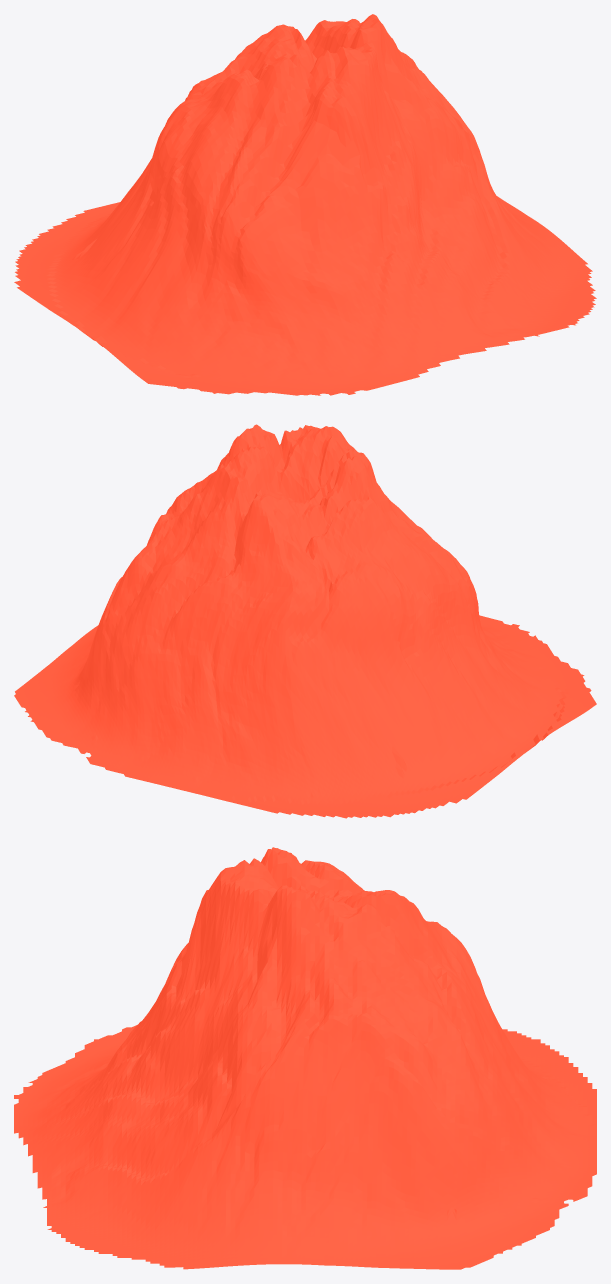
The model's file is testVolcano.glb.
The picture shows the model from 3 angles, top to bottom: view 1: azimuth 30°, elevation 25°; view 2: azimuth 150°, elevation 25°; view 3: azimuth 270°, elevation 25°; orthographic projection. The views are drawn at different scales.
Parts seen in each view (by area): view 1: baked; view 2: baked; view 3: baked.
Part boxes in pixels (x1,y1,x2,y2): baked: [14, 14, 596, 395]; baked: [14, 424, 596, 818]; baked: [14, 847, 596, 1269].
Size of the model in its own units: 2 by 1.07 by 1.95.
